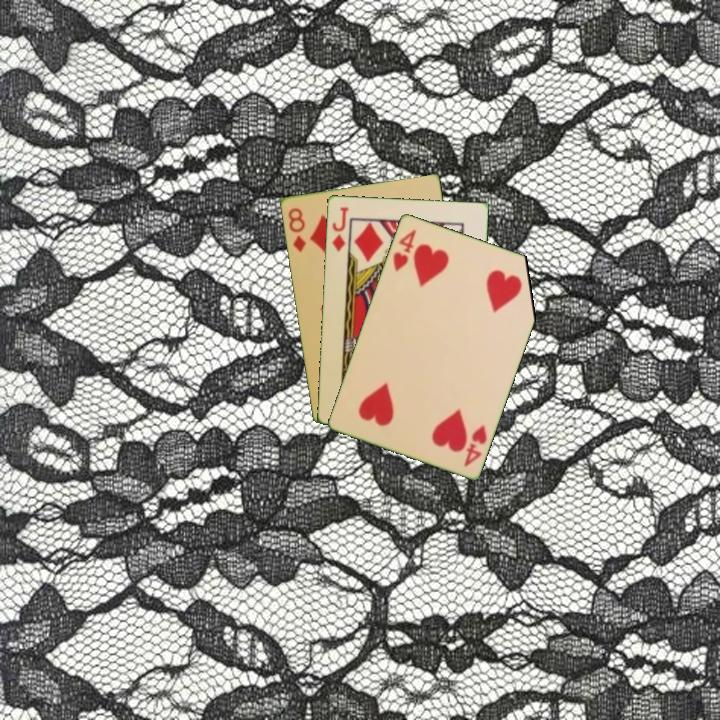4h: (389, 225, 419, 274), (460, 421, 489, 469)
8d: (284, 204, 309, 255)
Jd: (328, 203, 351, 254)
